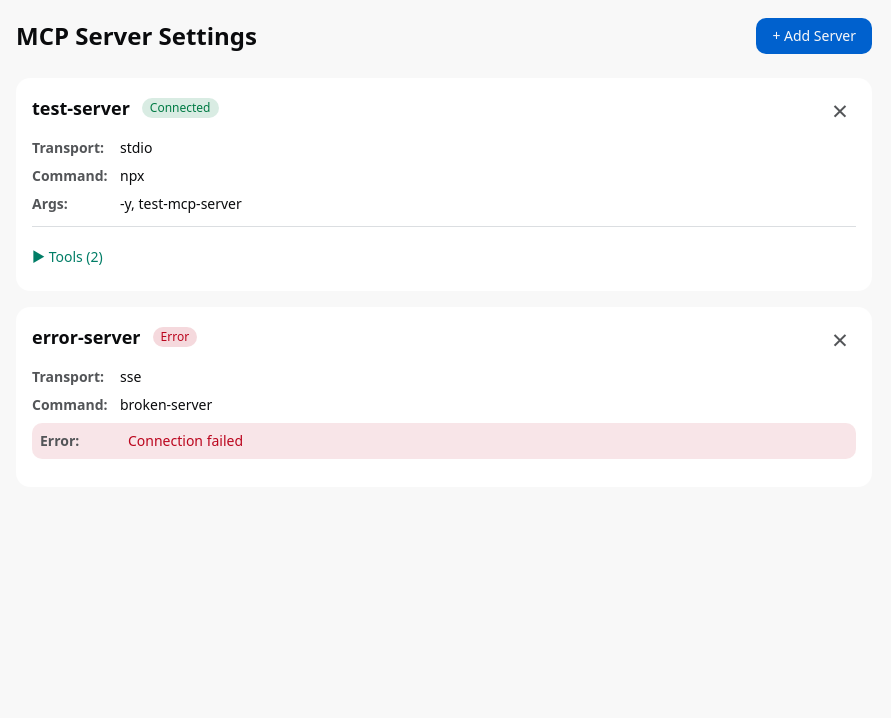
Test: MCPSettings › add server form › should hide form when cancel is clicked
Click the button "+ Add Server" at (814, 36), box [756, 18, 872, 54]
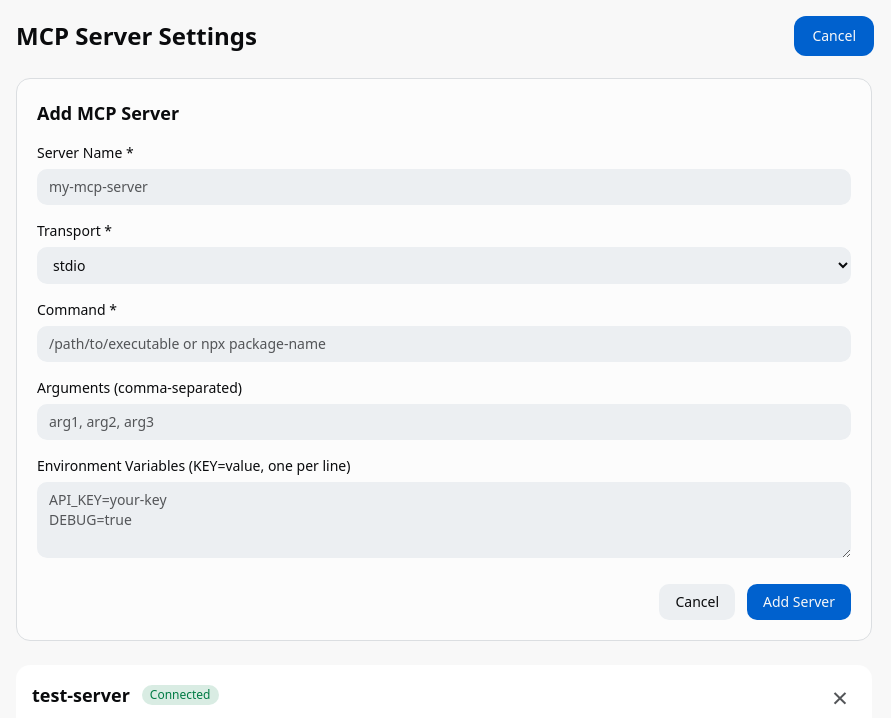
Result: the heading "Add MCP Server" is shown at [37, 101, 179, 125]
Click the cancel button within the form actions (not the header button)
Click the 2nd button "Cancel" at (697, 602), box [659, 584, 735, 620]
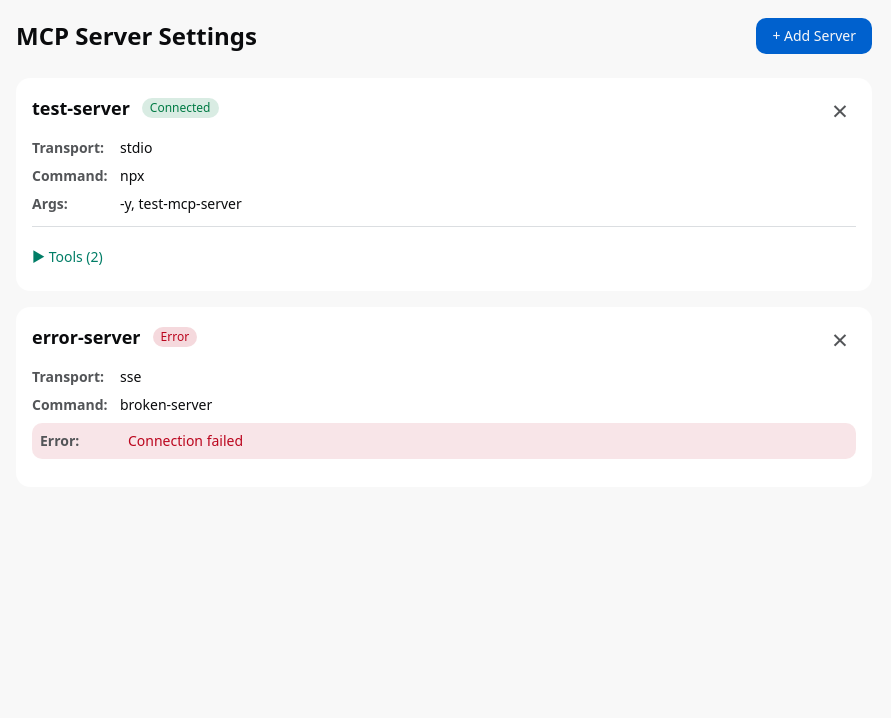
Result: the heading "Add MCP Server" is gone
